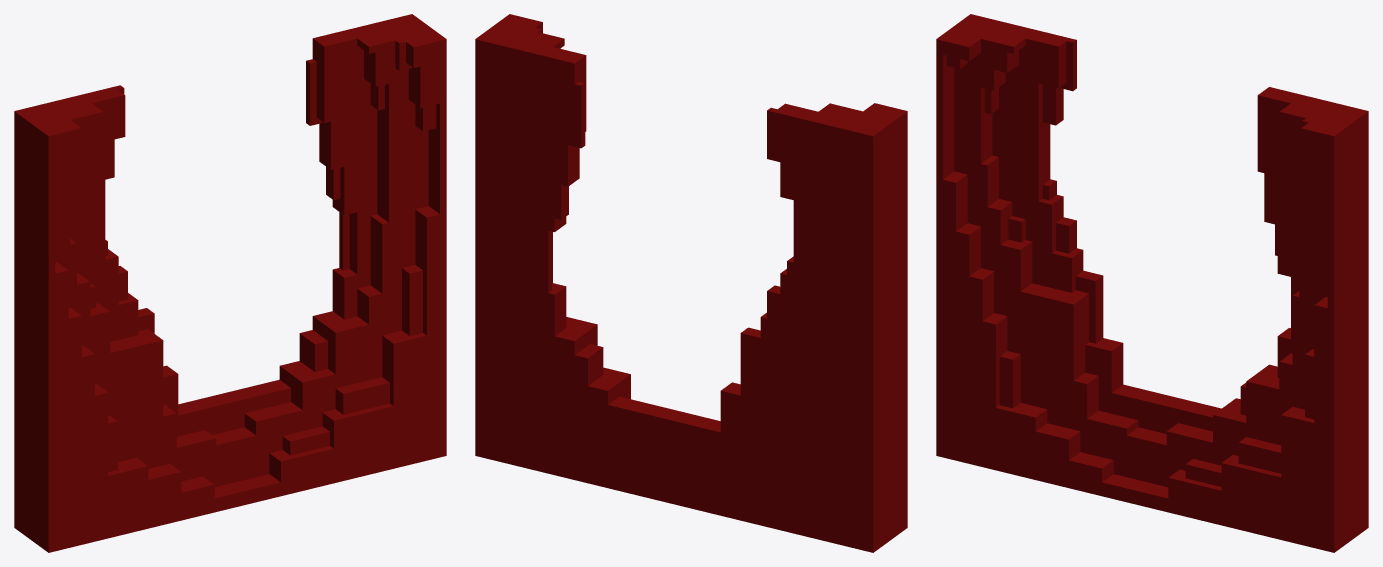
File: horseshoe end 4x4.obj
The picture shows the model from 3 angles, left to right: view 1: azimuth 30°, elevation 25°; view 2: azimuth 150°, elevation 25°; view 3: azimuth 330°, elevation 25°; orthographic projection.
Bounding box in the file's own units: 60 × 60 × 9.
Materials: 1 (1 with a texture image).
